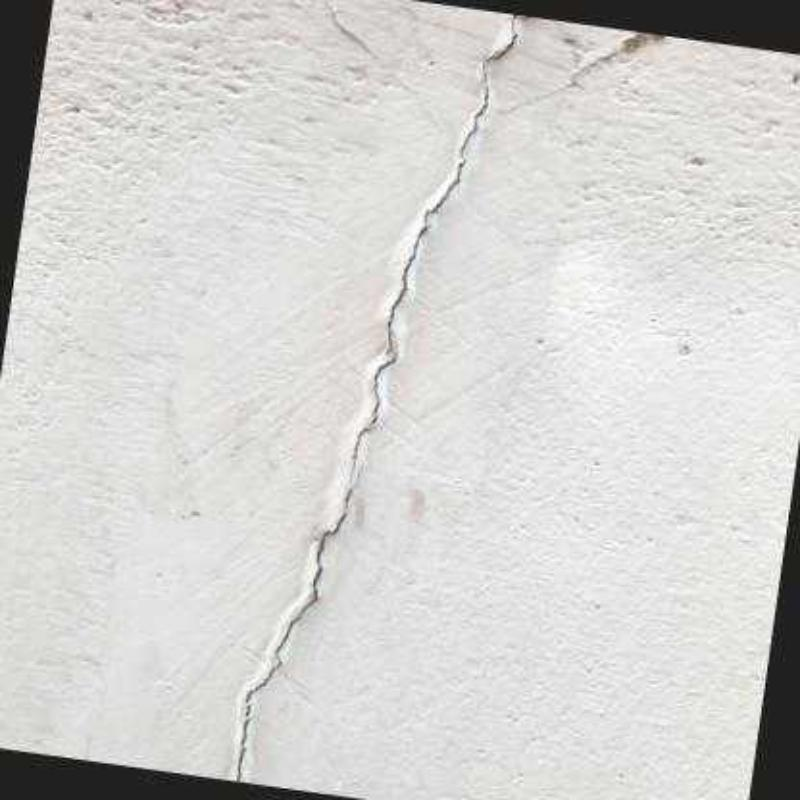pothole: (386, 14, 536, 352), (235, 465, 363, 783), (347, 353, 400, 480)
